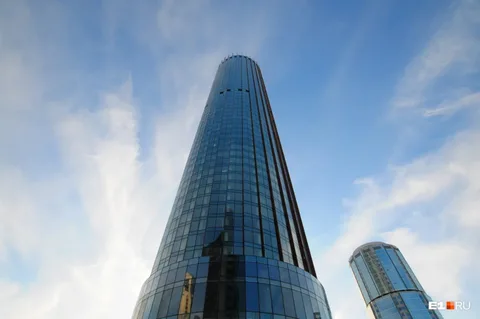high_rise_building: (173, 49, 326, 312)
